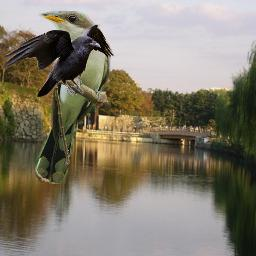Crow: (2, 24, 114, 97)
Cuckoo: (35, 11, 111, 184)
